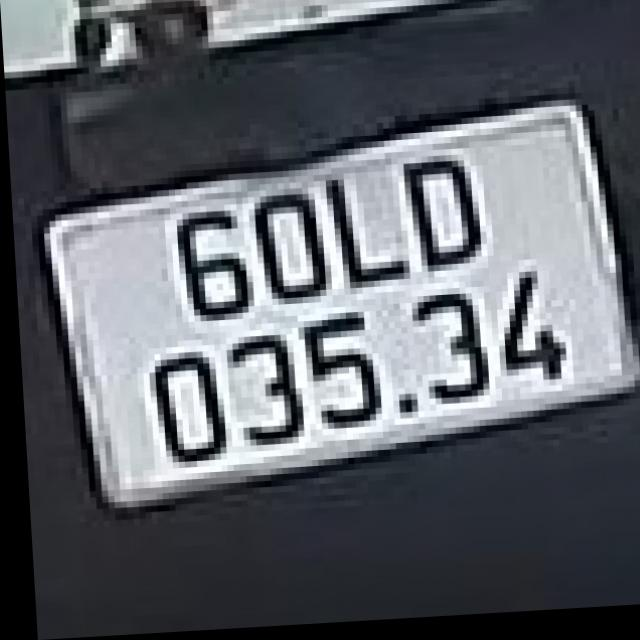0: (250, 194, 329, 311), (145, 353, 223, 470)
3: (408, 293, 489, 412), (222, 334, 301, 453)
4: (496, 278, 565, 393)
5: (298, 315, 377, 435)
6: (173, 212, 251, 324)
D: (398, 161, 483, 281)
L: (324, 177, 405, 293)
